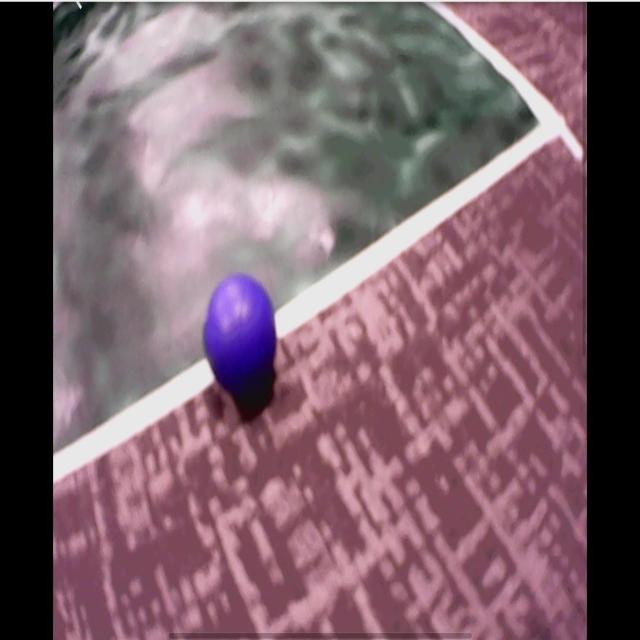ball: (205, 272, 277, 394)
